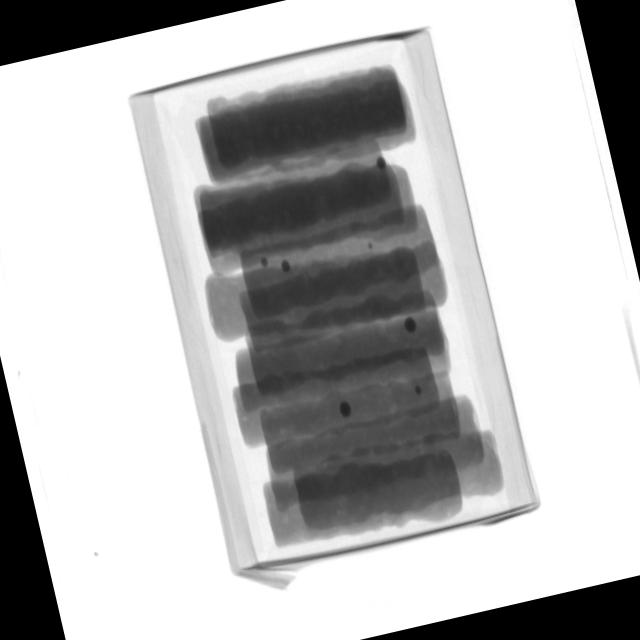ym: (403, 317, 419, 336), (339, 401, 353, 419), (280, 259, 292, 274), (378, 156, 388, 169), (414, 385, 424, 397), (261, 258, 270, 267), (368, 242, 375, 249)
